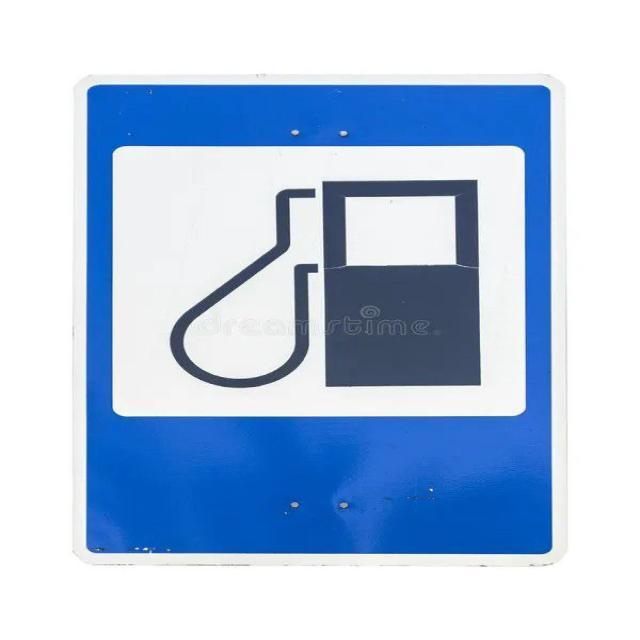petrol pump ahead: (95, 113, 549, 448)
